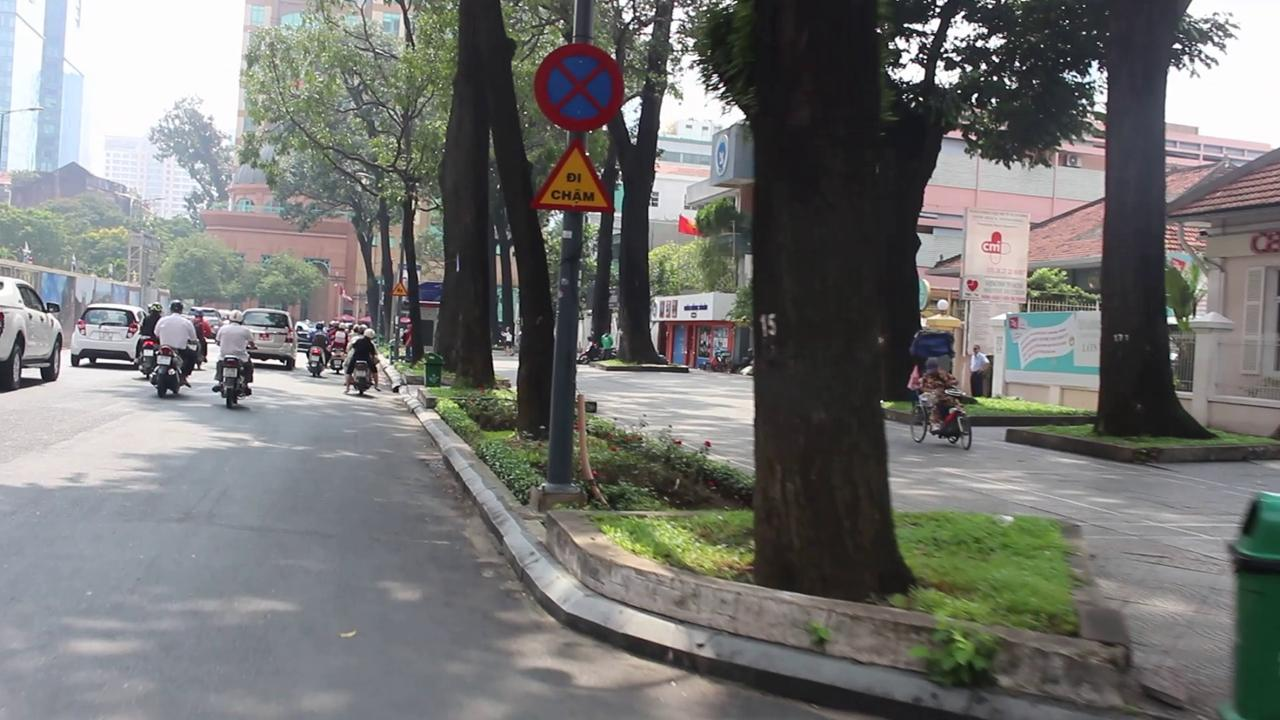P.103a: (530, 36, 624, 134)
R.301d: (532, 146, 617, 212)
